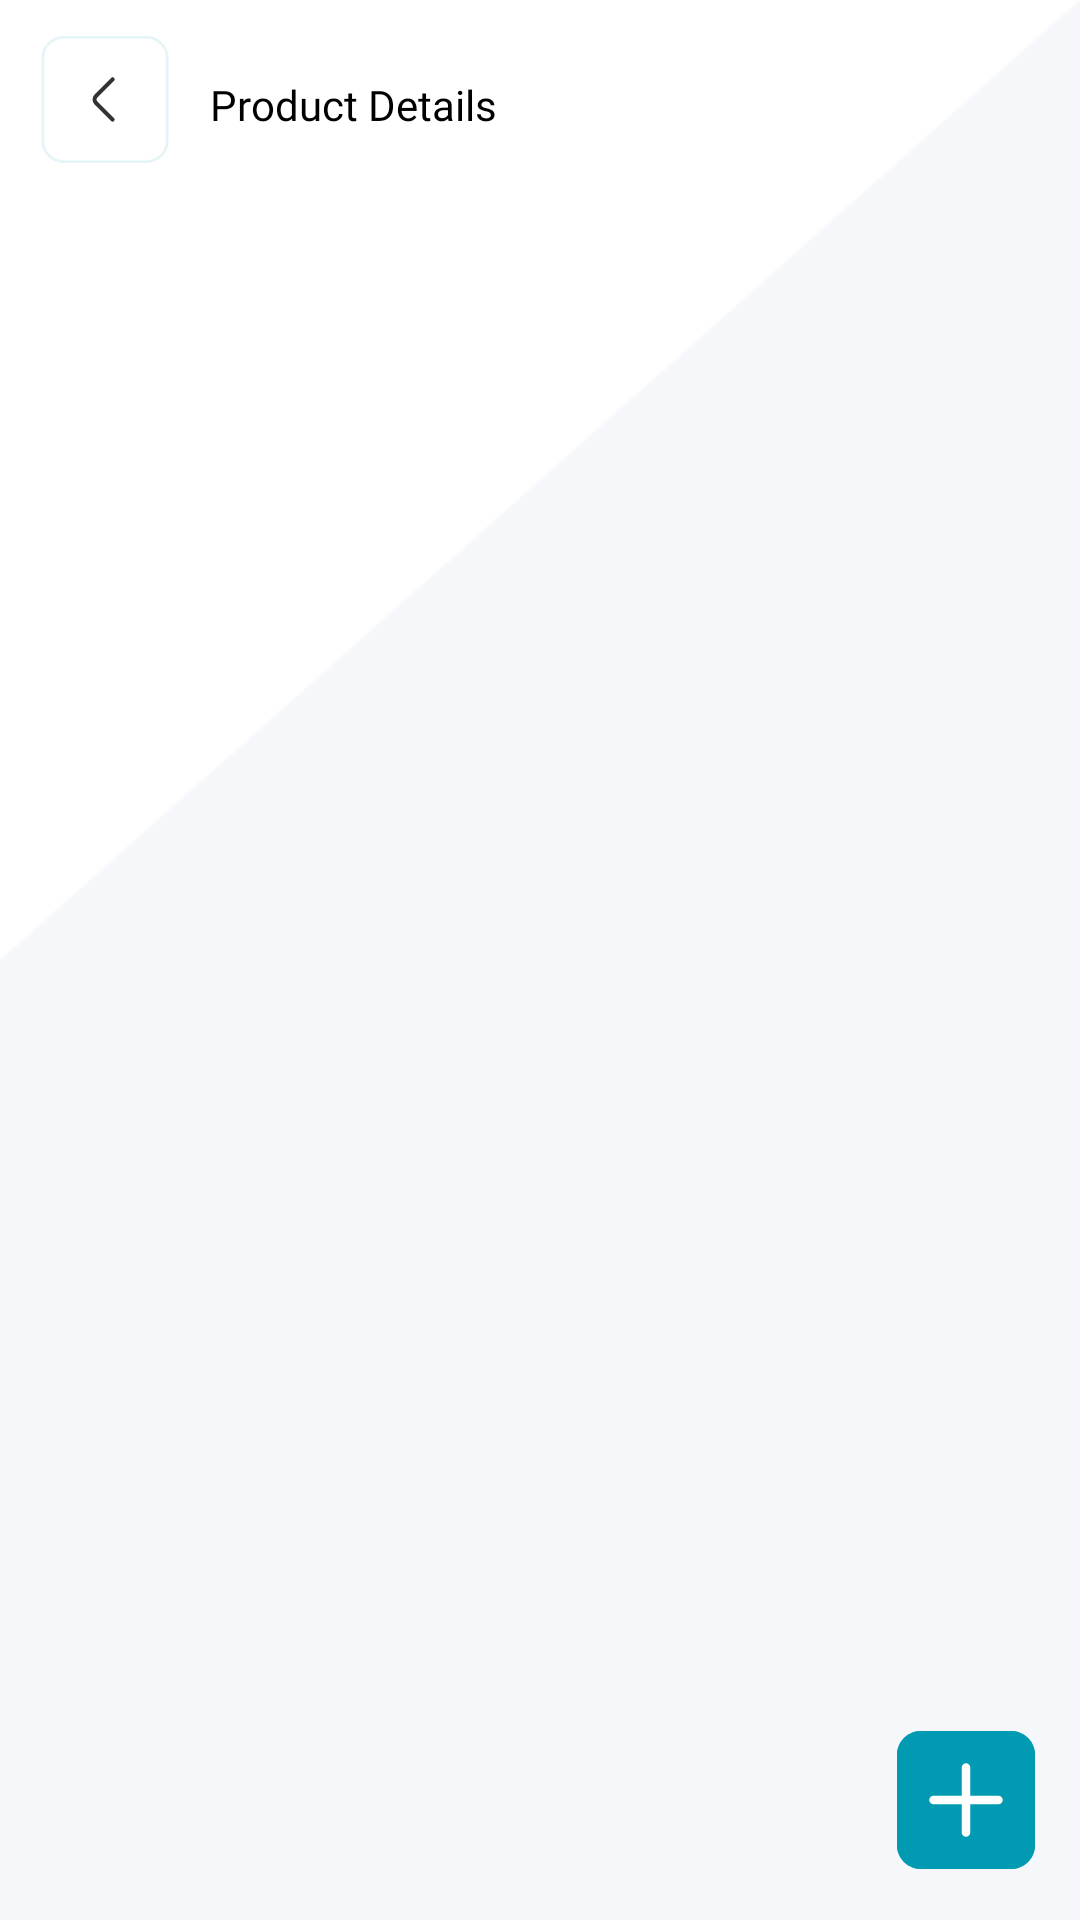

Where to tap for icons on this 1080*1920 app screen, as [x,y]:
add product: [966,1800]
back: [105,99]
